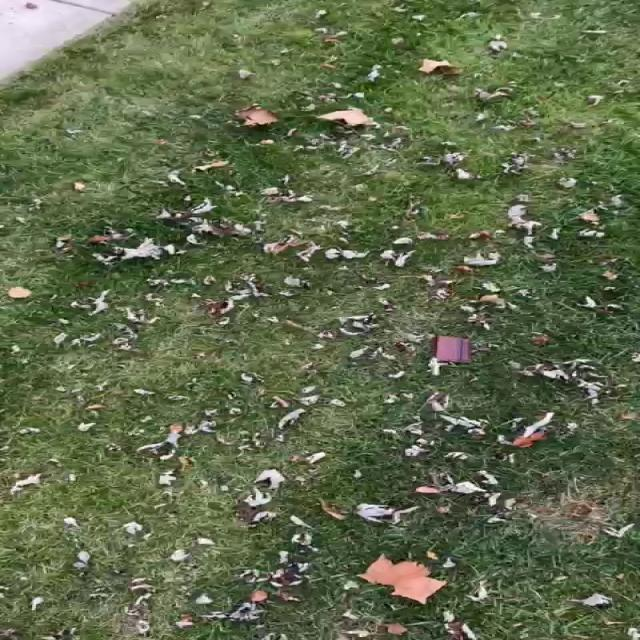wallet: (434, 334, 471, 363)
